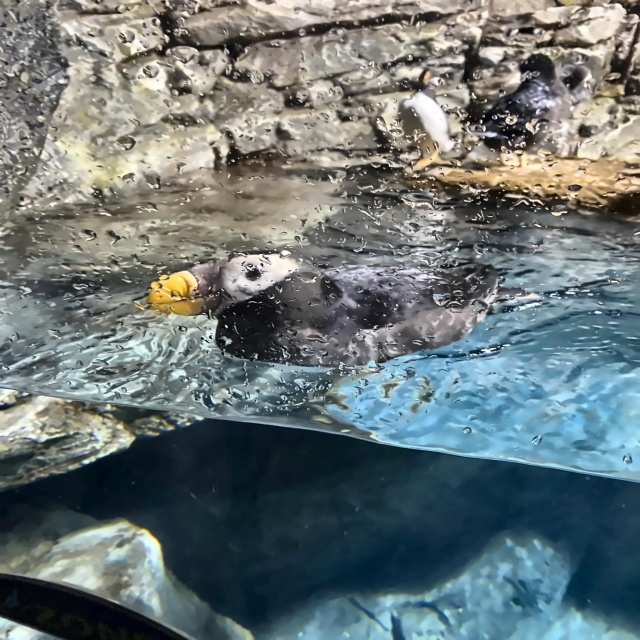puffin: (146, 249, 539, 367), (467, 55, 572, 163), (515, 64, 593, 158), (400, 68, 455, 169)
